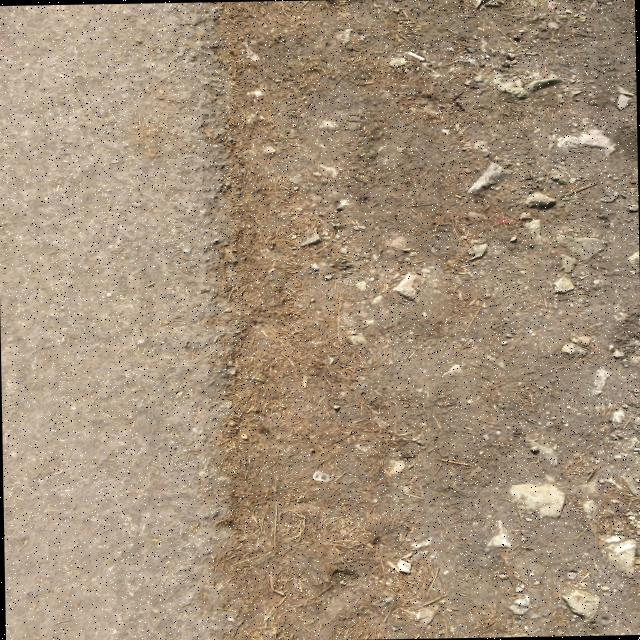Cigarette: (405, 50, 425, 60)
Pop tab: (314, 471, 330, 482)
